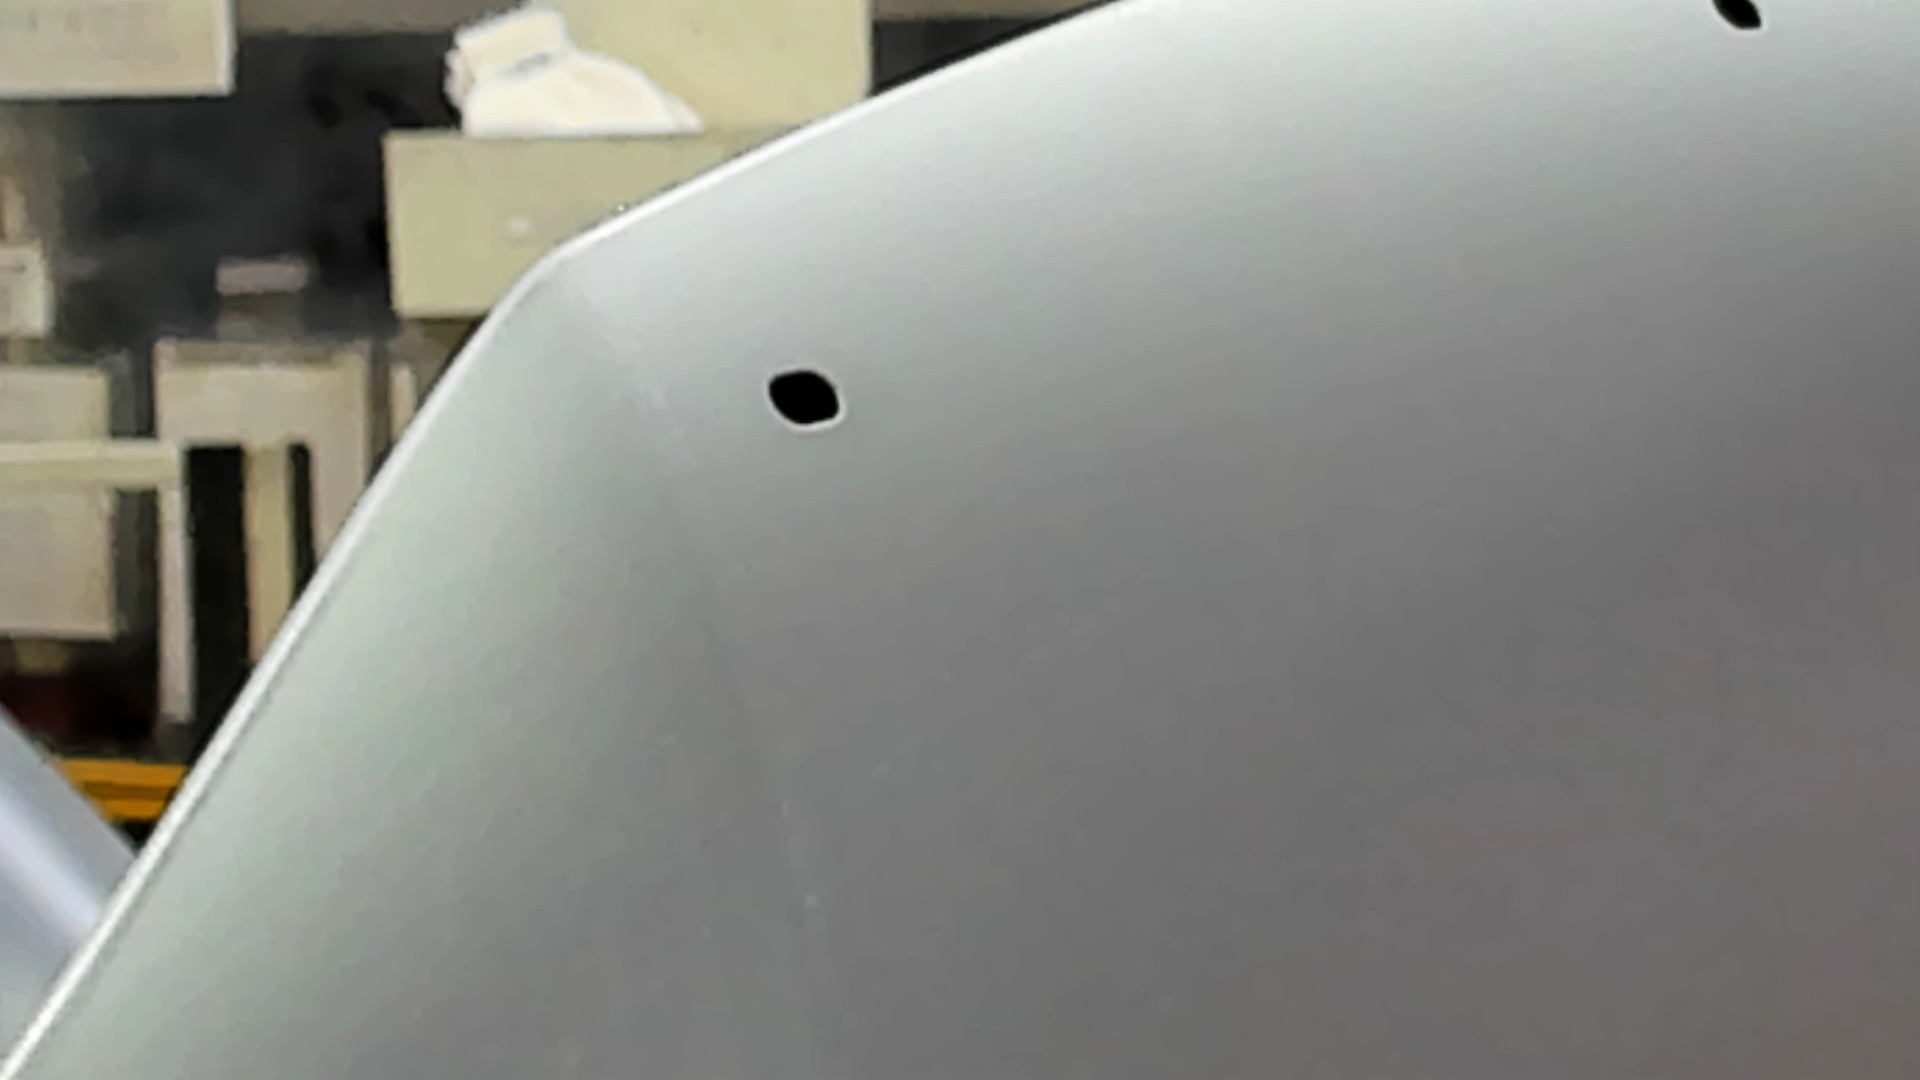amorfo: (766, 365, 847, 433), (1709, 1, 1771, 33)
